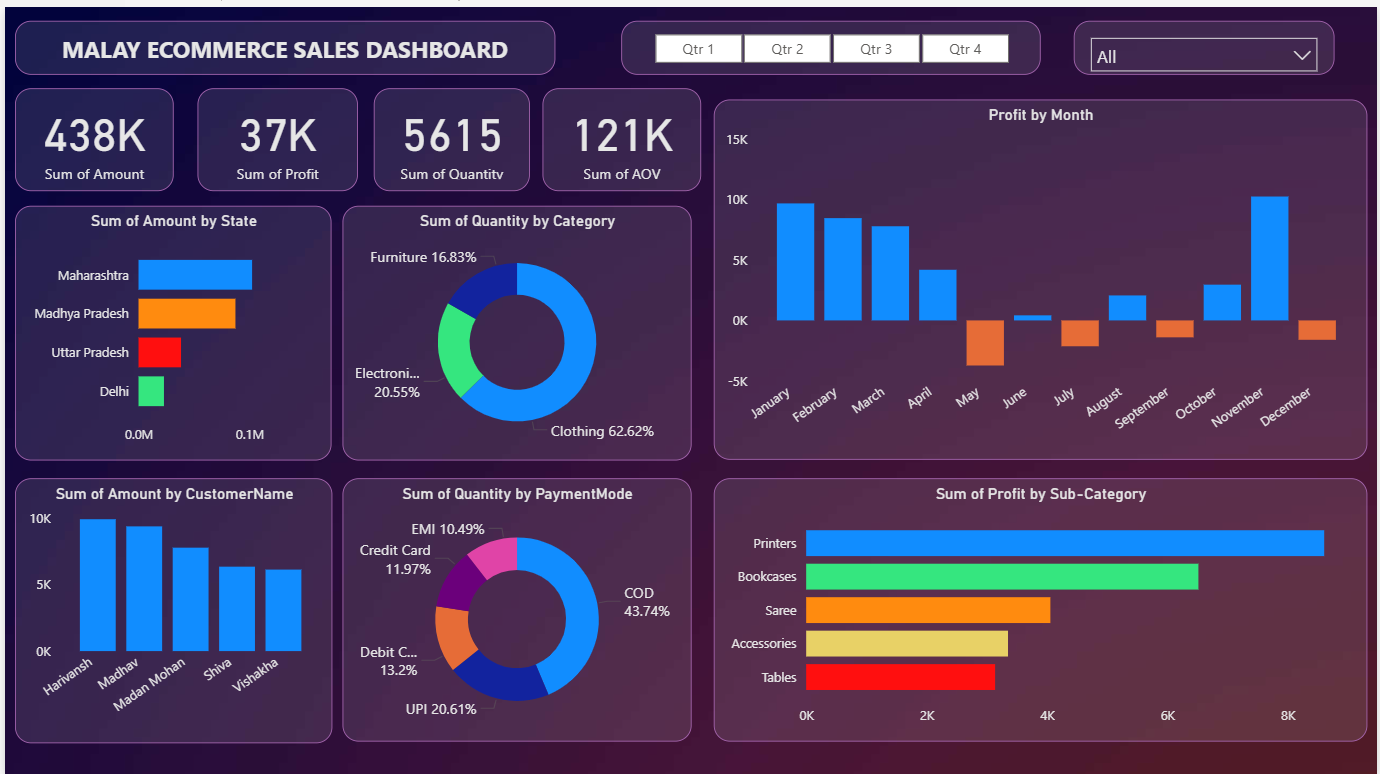

The page's visual inventory and layout, read from the dashboard file:
{"tool":"powerbi","page":{"name":"Page 1","canvas":[1280,720],"ordinal":0},"visuals":[{"type":"textbox","box":[9.6,12.3,503.6,50.8],"z":0},{"type":"columnChart","title":"Profit by Month","fields":{"Category":["Order.Order Date.Variation.Date Hierarchy.Month"],"Y":["Detail.Profit"]},"box":[661.4,86.4,609.3,336.2],"z":1000},{"type":"barChart","fields":{"Category":["Detail.Sub-Category"],"Y":["Detail.Profit"]},"box":[661.4,439.1,609.3,245.6],"z":2000},{"type":"donutChart","fields":{"Category":["Detail.Category"],"Y":["Detail.Quantity"]},"box":[314.2,185.2,325.2,237.4],"z":3000},{"type":"donutChart","fields":{"Y":["Detail.Quantity"],"Category":["Detail.PaymentMode"]},"box":[314.2,439.1,325.2,245.6],"z":4000},{"type":"card","fields":{"Values":["Detail.Amount"]},"box":[9.6,75.5,148.2,96.1],"z":5000},{"type":"card","fields":{"Values":["Detail.Profit"]},"box":[179.8,75.5,149.6,96.1],"z":6000},{"type":"card","fields":{"Values":["Detail.Quantity"]},"box":[344.4,75.5,145.5,96.1],"z":7000},{"type":"card","fields":{"Values":["Detail.AOV"]},"box":[500.9,75.5,148.2,96.1],"z":8000},{"type":"barChart","fields":{"Category":["Order.State"],"Y":["Detail.Amount"]},"box":[9.6,185.2,295,237.4],"z":9000},{"type":"columnChart","fields":{"Category":["Order.CustomerName"],"Y":["Detail.Amount"]},"box":[9.6,439.1,296.4,247],"z":10000},{"type":"slicer","fields":{"Values":["Order.State"]},"box":[996.2,12.3,242.9,50.8],"z":11000},{"type":"slicer","fields":{"Values":["Order.Order Date.Variation.Date Hierarchy.Quarter"]},"box":[575,12.3,391.1,50.8],"z":12000}]}

Visuals, with their boxes in screenshot pixels (x1, y1, x2, y2), scaled from the page's 1280x720 canvas onto the 1380x774 screenshot:
textbox: crop(10, 13, 553, 68)
"Profit by Month" columnChart: crop(713, 93, 1370, 454)
barChart - Detail.Sub-Category x Detail.Profit: crop(713, 472, 1370, 736)
donutChart - Detail.Category x Detail.Quantity: crop(339, 199, 689, 454)
donutChart - Detail.Quantity x Detail.PaymentMode: crop(339, 472, 689, 736)
card - Detail.Amount: crop(10, 81, 170, 184)
card - Detail.Profit: crop(194, 81, 355, 184)
card - Detail.Quantity: crop(371, 81, 528, 184)
card - Detail.AOV: crop(540, 81, 700, 184)
barChart - Order.State x Detail.Amount: crop(10, 199, 328, 454)
columnChart - Order.CustomerName x Detail.Amount: crop(10, 472, 330, 738)
slicer - Order.State: crop(1074, 13, 1336, 68)
slicer - Order.Order Date.Variation.Date Hierarchy.Quarter: crop(620, 13, 1042, 68)
